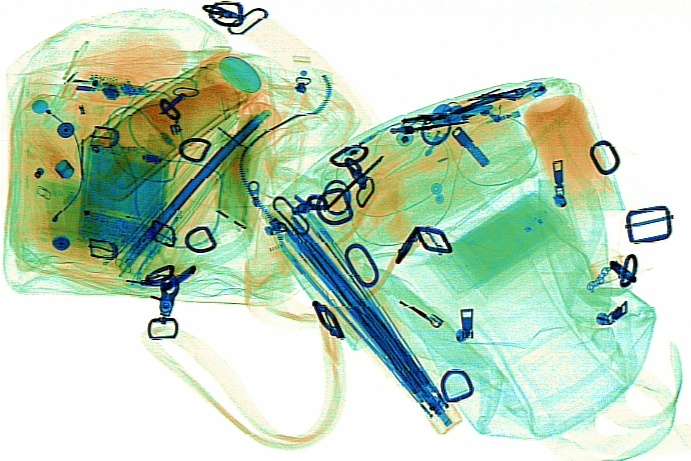lighter: (479, 79, 548, 120)
